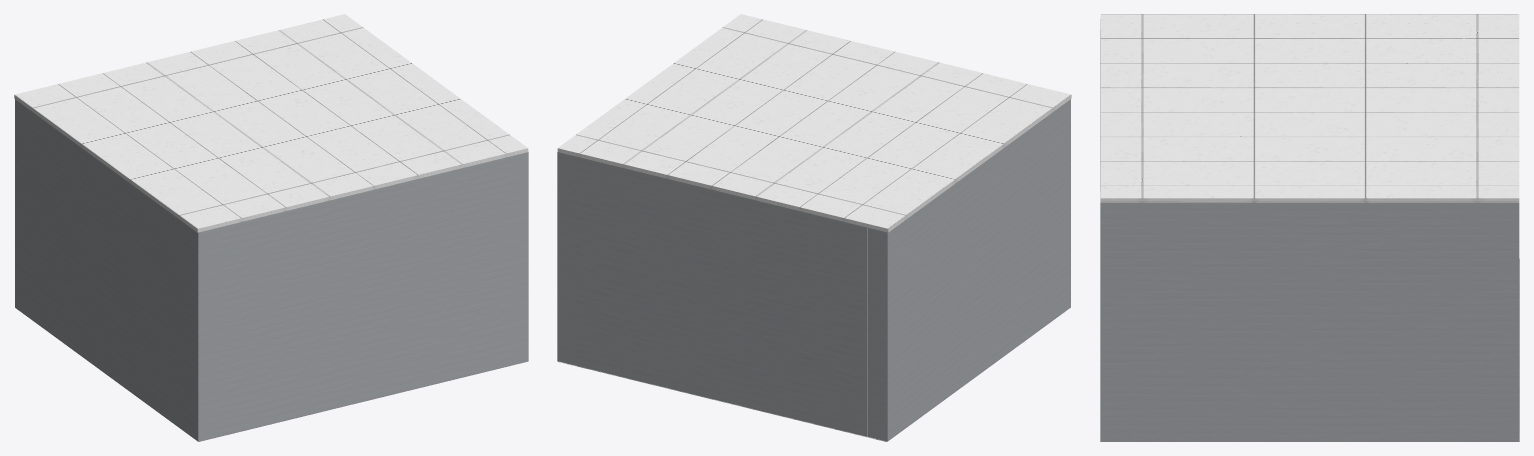
Rendered from Reactor_room_only.glb.
The picture shows the model from 3 angles, left to right: view 1: azimuth 30°, elevation 25°; view 2: azimuth 150°, elevation 25°; view 3: azimuth 270°, elevation 25°; orthographic projection. The views are drawn at different scales.
Visible parts, largest first — view 1: walls, ceiling; view 2: walls, ceiling; view 3: walls, ceiling.
Boxes of the visible parts, box(x1,y1,x2,y2) form: walls: box(15, 99, 528, 441); ceiling: box(14, 14, 528, 232); walls: box(557, 99, 1070, 441); ceiling: box(557, 14, 1071, 232); walls: box(1100, 19, 1519, 441); ceiling: box(1100, 14, 1519, 202).
Size of the model in its own units: 9.99 by 6.16 by 9.6.
Materials: 3 (3 with a texture image).
